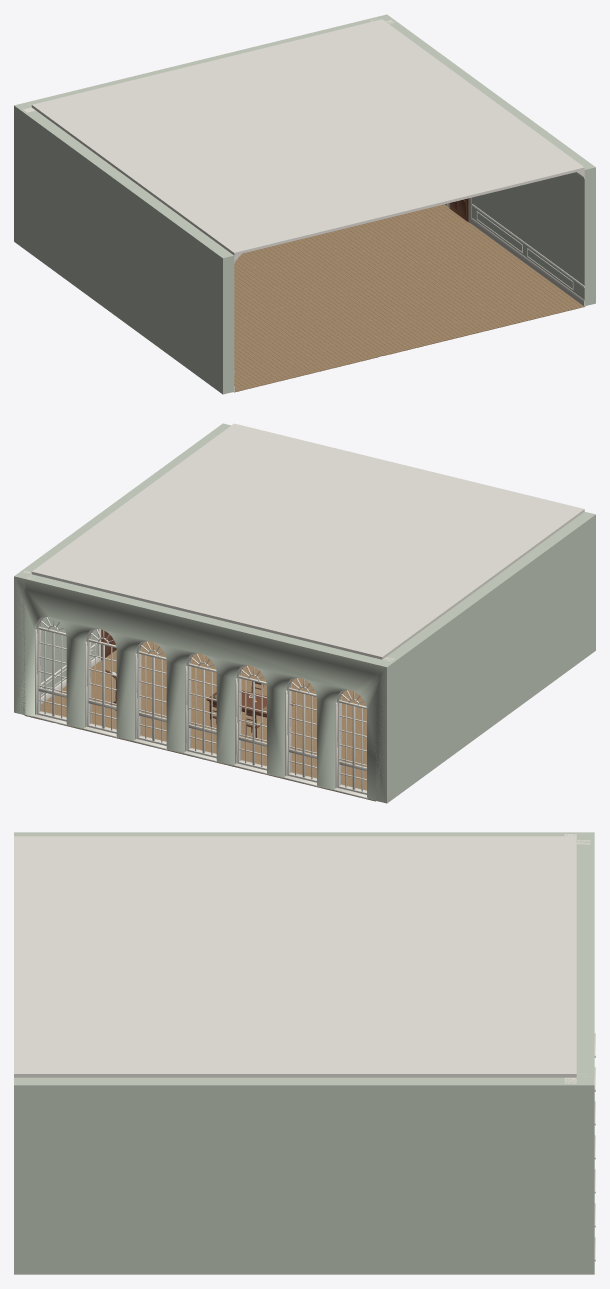
Rendered from room-DY20Y99M.glb.
3 renders of one model, top to bottom at view 1: azimuth 30°, elevation 25°; view 2: azimuth 150°, elevation 25°; view 3: azimuth 270°, elevation 25°, orthographic. The views are drawn at different scales.
Visible parts, largest first — view 1: ceiling, side-walls, floor, back-wall, mouldings; view 2: ceiling, side-walls, back-wall, window-joinery, floor, table; view 3: ceiling, side-walls, back-wall.
Boxes of the visible parts, x1,y1,x2,y2 form: ceiling: [31, 19, 584, 255]; side-walls: [14, 14, 595, 394]; floor: [234, 204, 585, 392]; back-wall: [14, 14, 392, 245]; mouldings: [23, 18, 584, 391]; ceiling: [31, 423, 584, 659]; side-walls: [14, 423, 595, 802]; back-wall: [14, 571, 393, 803]; window-joinery: [33, 616, 367, 798]; floor: [24, 641, 375, 801]; table: [206, 690, 294, 719]; ceiling: [14, 836, 576, 1077]; side-walls: [14, 832, 594, 1274]; back-wall: [576, 832, 594, 1274].
Size of the model in its own units: 14.9 by 5.33 by 14.48.
